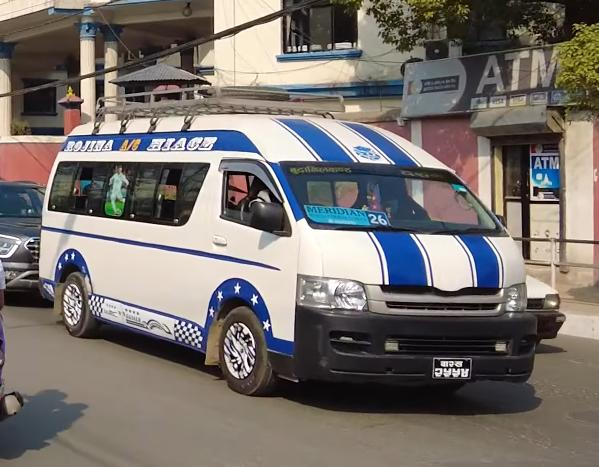car: (0, 175, 72, 299)
micro_bus: (32, 83, 546, 405)
